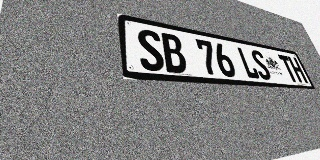6: (211, 42, 237, 77)
7: (194, 39, 221, 76)
B: (159, 32, 189, 74)
H: (287, 56, 308, 83)
L: (236, 47, 261, 79)
S: (136, 28, 166, 72), (249, 49, 273, 80)
T: (277, 54, 299, 82)
